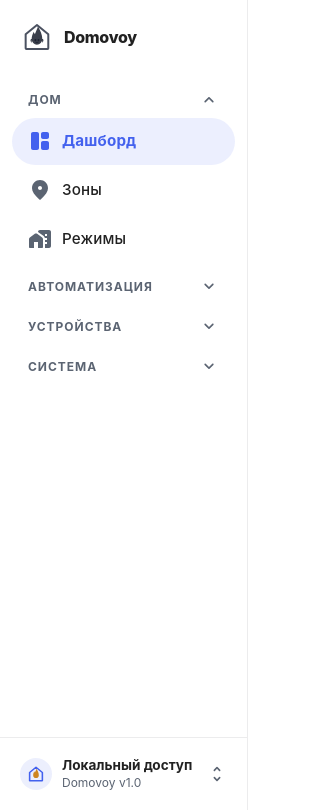
it: Navigation Responsive Behavior › should show desktop navigation on large screens
The width and height of the screenshot is (320, 810).
Check: the link "Дашборд" is shown, box [12,118,235,165]
Logs lives in the collapsed "system" group — expand it, then the link is reachable.
Click the button "Система": (63, 366) [28,356,219,376]
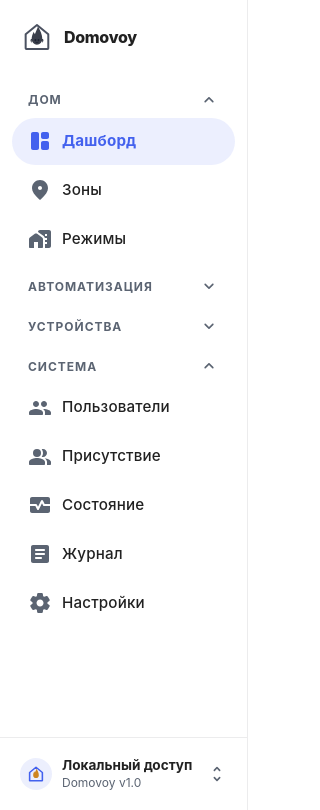
Check: the link "Журнал" is shown, box [28,542,123,566]
